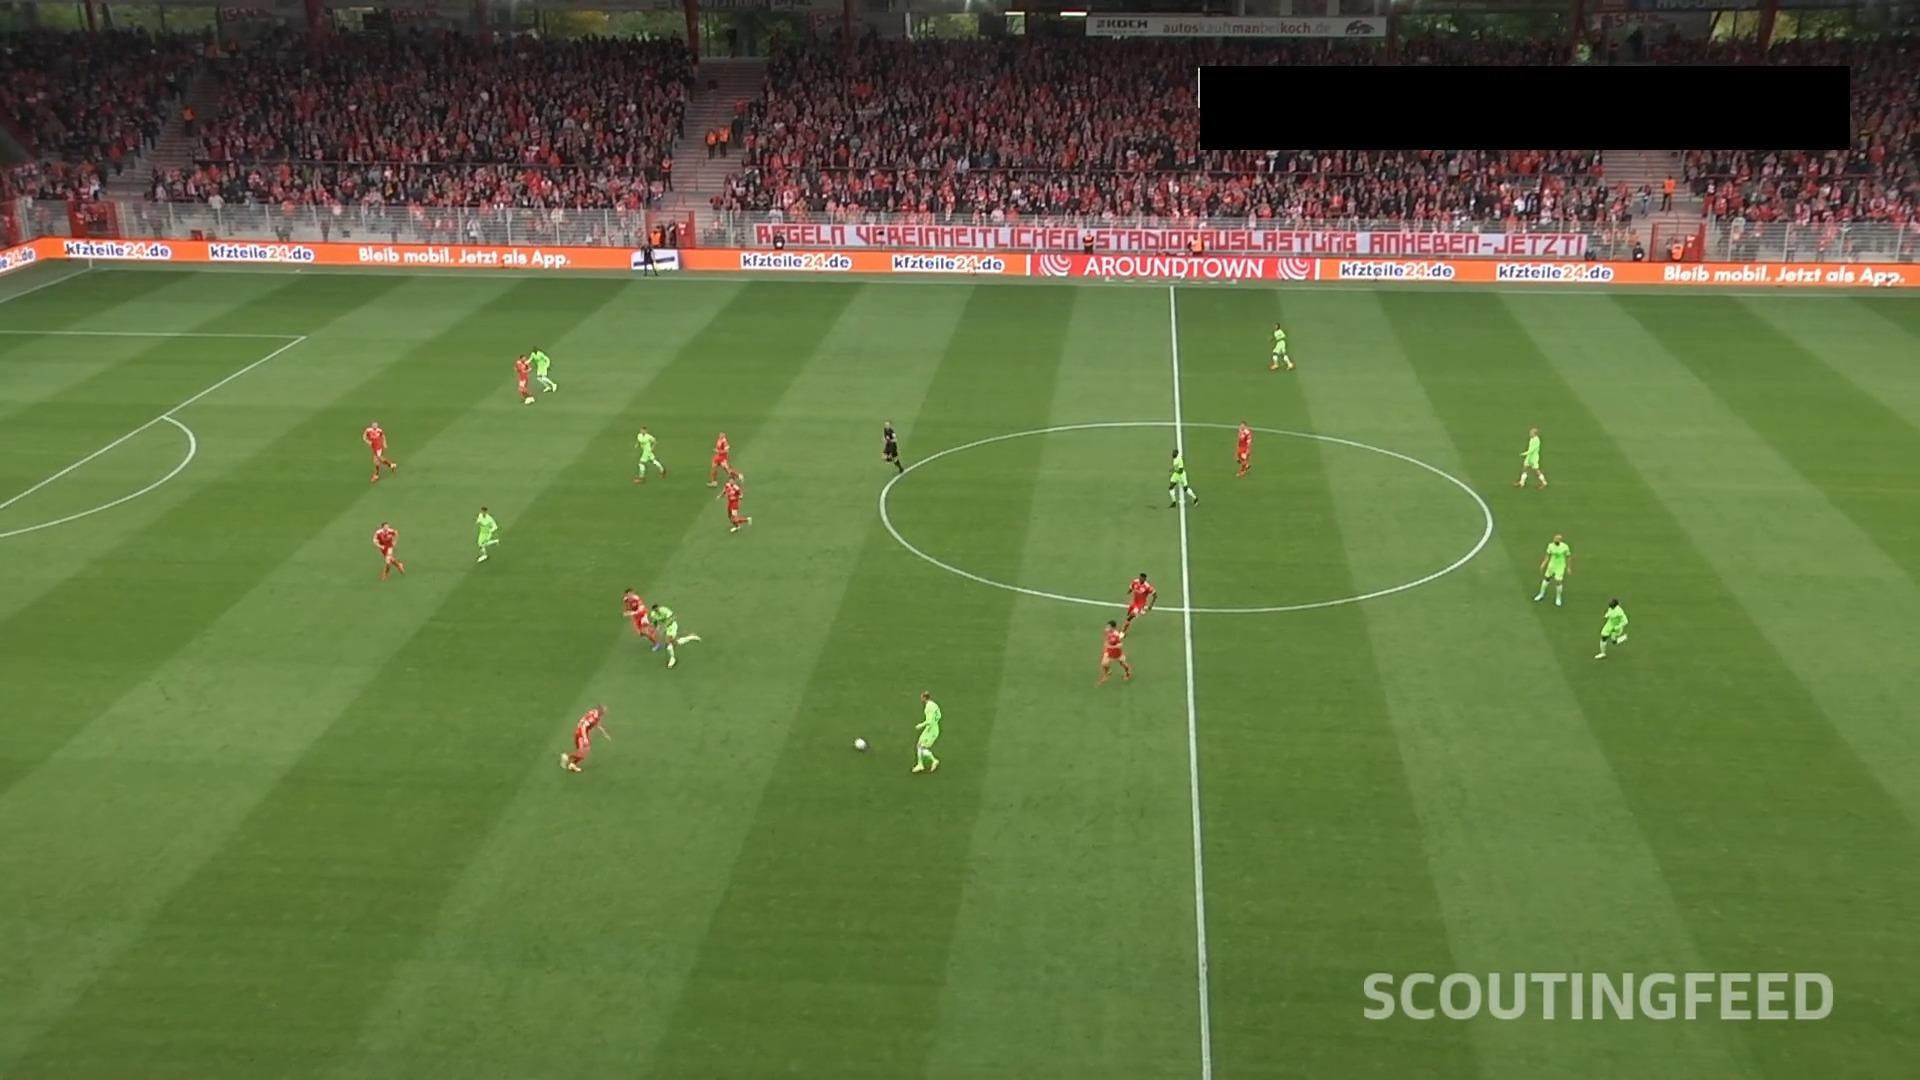ball: (852, 737, 868, 753)
